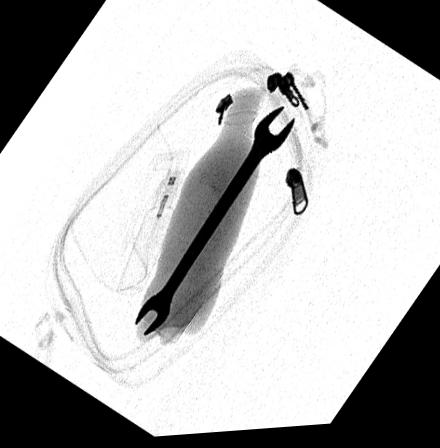Wrench: (135, 108, 298, 338)
